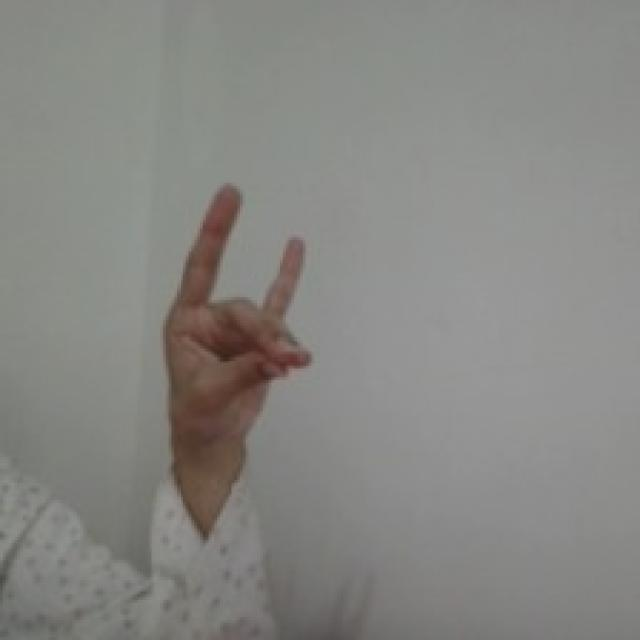Dog: (156, 176, 324, 459)
